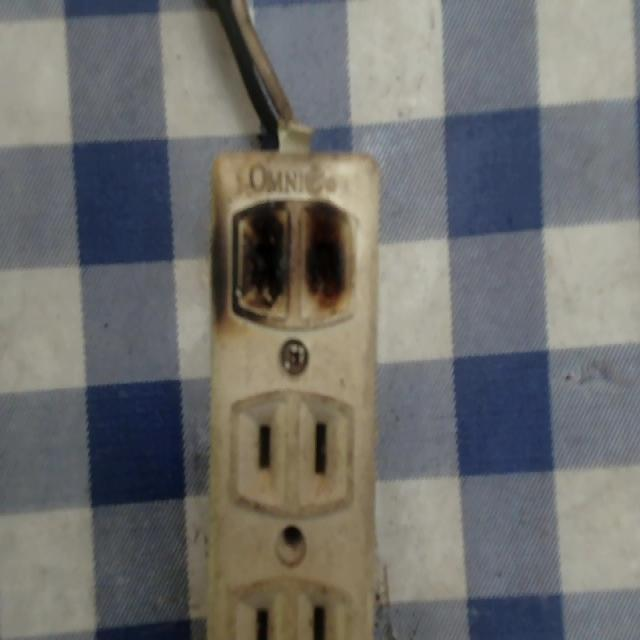-: (202, 196, 361, 335)
